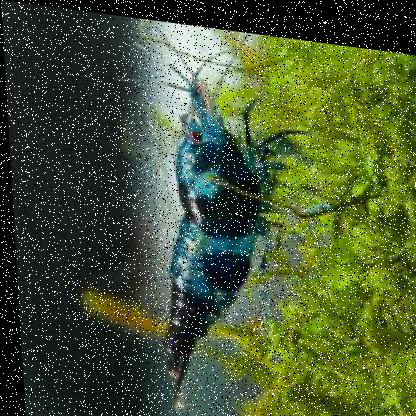shrimp: (139, 49, 348, 415)
